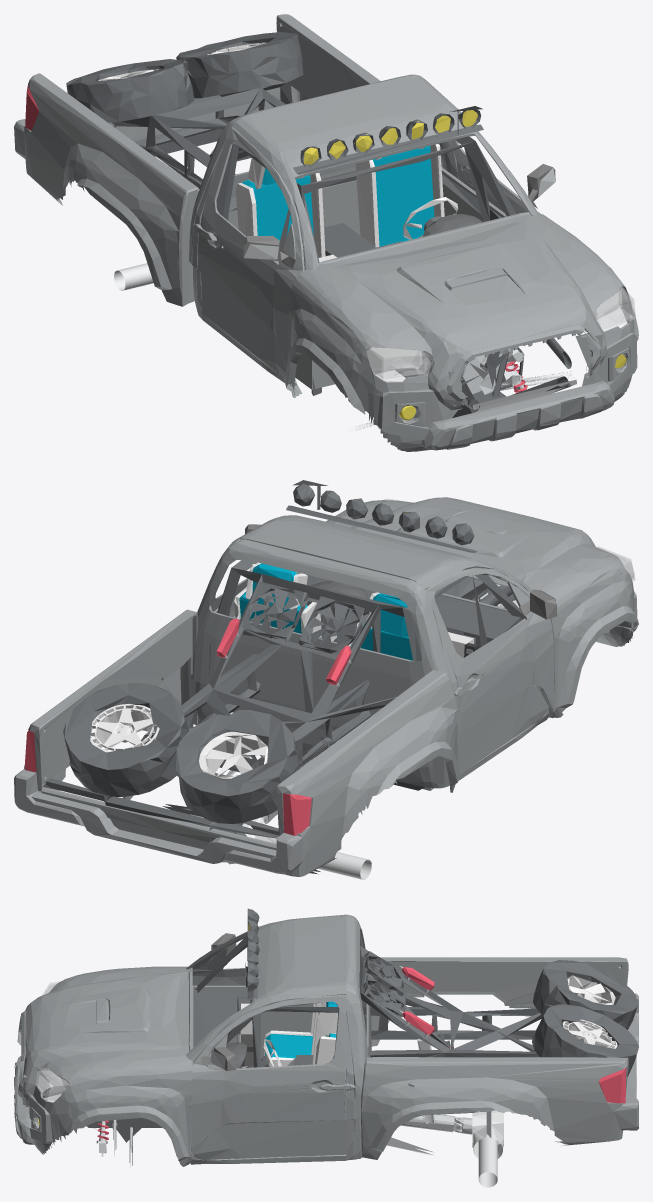
Rendered from truck-hi.glb.
3 views of the same model, one above another, from view 1: azimuth 30°, elevation 25°; view 2: azimuth 150°, elevation 25°; view 3: azimuth 270°, elevation 25° (orthographic). The views are drawn at different scales.
Visible parts, largest first — view 1: Object_63, Object_42, Object_61, Object_68, Object_10, Object_16, Object_38, Object_21, Object_11, Object_6, Object_5, Object_24; view 2: Object_63, Object_42, Object_36, Object_61, Object_24, Object_21, Object_68, Object_6; view 3: Object_63, Object_42, Object_21, Object_12, Object_36, Object_68, Object_24, Object_61, Object_10, Object_6.
Part boxes in pixels (box(x1,y1,x2,y2)): Object_63: box(14, 14, 638, 451); Object_42: box(66, 32, 571, 417); Object_61: box(242, 146, 434, 246); Object_68: box(235, 144, 444, 257); Object_10: box(366, 287, 635, 381); Object_16: box(244, 167, 555, 394); Object_38: box(304, 110, 626, 420); Object_21: box(114, 263, 576, 412); Object_11: box(357, 288, 621, 369); Object_6: box(243, 164, 555, 269); Object_5: box(422, 214, 482, 236); Object_24: box(25, 83, 527, 393); Object_63: box(14, 497, 638, 876); Object_42: box(43, 480, 524, 874); Object_36: box(90, 703, 267, 780); Object_61: box(239, 563, 412, 660); Object_24: box(24, 618, 351, 835); Object_21: box(191, 584, 519, 879); Object_68: box(234, 562, 379, 647); Object_6: box(245, 524, 557, 619); Object_63: box(14, 914, 638, 1166); Object_42: box(40, 908, 638, 1142); Object_21: box(38, 1074, 503, 1187); Object_12: box(113, 977, 472, 1167); Object_36: box(563, 975, 617, 1048); Object_68: box(264, 1002, 337, 1066); Object_24: box(97, 967, 626, 1140); Object_61: box(265, 1001, 338, 1058); Object_10: box(37, 981, 69, 1100); Object_6: box(201, 933, 236, 1071).
Bounding box in the file's own units: 2.66 × 2.03 × 5.55.
